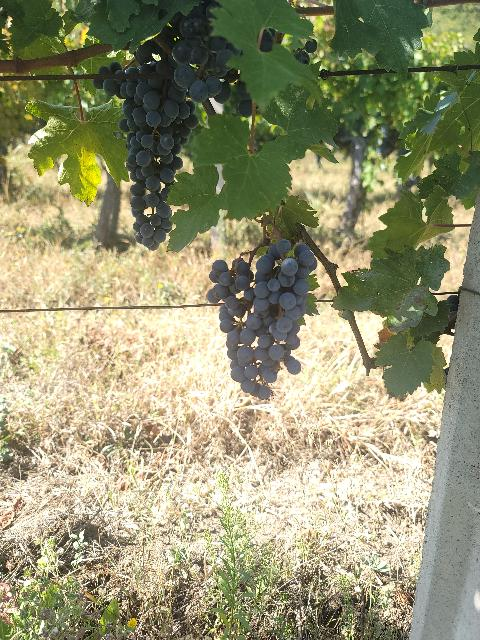grapes: (92, 59, 199, 250), (206, 239, 318, 400), (170, 0, 236, 102)
